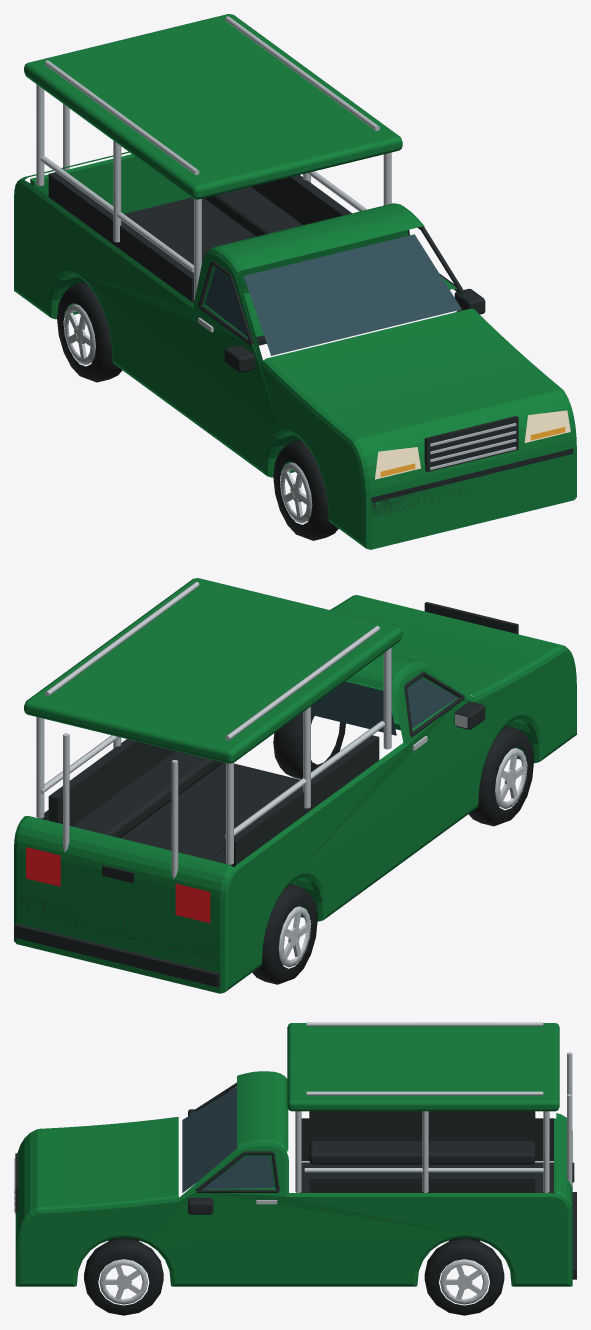
Rendered from veh.songthaew@central.gltf.
3 views of the same model, one above another, from view 1: azimuth 30°, elevation 25°; view 2: azimuth 150°, elevation 25°; view 3: azimuth 270°, elevation 25° (orthographic). The views are drawn at different scales.
Visible parts, largest first — view 1: veh.songthaew/vehicle:car_paint:15803d, veh.songthaew/vehicle:plastic_trim_black:242b2c, veh.songthaew/vehicle:glass_vehicle:334f58, veh.songthaew/vehicle:chrome:bfc8cc, veh.songthaew/vehicle:rubber_tire:202527, veh.songthaew/vehicle:lamp_lens:fff3d8; view 2: veh.songthaew/vehicle:car_paint:15803d, veh.songthaew/vehicle:plastic_trim_black:242b2c, veh.songthaew/vehicle:chrome:bfc8cc, veh.songthaew/vehicle:rubber_tire:202527, veh.songthaew/vehicle:glass_vehicle:334f58, veh.songthaew/vehicle:tail_light_red:de252b; view 3: veh.songthaew/vehicle:car_paint:15803d, veh.songthaew/vehicle:plastic_trim_black:242b2c, veh.songthaew/vehicle:chrome:bfc8cc, veh.songthaew/vehicle:rubber_tire:202527, veh.songthaew/vehicle:glass_vehicle:334f58.
Part boxes in pixels (bbox=[...]): veh.songthaew/vehicle:car_paint:15803d: bbox=[14, 14, 576, 549]; veh.songthaew/vehicle:plastic_trim_black:242b2c: bbox=[48, 172, 573, 517]; veh.songthaew/vehicle:glass_vehicle:334f58: bbox=[204, 234, 461, 355]; veh.songthaew/vehicle:chrome:bfc8cc: bbox=[36, 16, 516, 523]; veh.songthaew/vehicle:rubber_tire:202527: bbox=[57, 281, 338, 540]; veh.songthaew/vehicle:lamp_lens:fff3d8: bbox=[375, 410, 570, 479]; veh.songthaew/vehicle:car_paint:15803d: bbox=[14, 578, 576, 993]; veh.songthaew/vehicle:plastic_trim_black:242b2c: bbox=[14, 602, 518, 987]; veh.songthaew/vehicle:chrome:bfc8cc: bbox=[36, 582, 527, 967]; veh.songthaew/vehicle:rubber_tire:202527: bbox=[252, 712, 533, 984]; veh.songthaew/vehicle:glass_vehicle:334f58: bbox=[302, 678, 457, 735]; veh.songthaew/vehicle:tail_light_red:de252b: bbox=[26, 847, 210, 923]; veh.songthaew/vehicle:car_paint:15803d: bbox=[15, 1023, 572, 1286]; veh.songthaew/vehicle:plastic_trim_black:242b2c: bbox=[15, 1082, 576, 1279]; veh.songthaew/vehicle:chrome:bfc8cc: bbox=[14, 1022, 572, 1304]; veh.songthaew/vehicle:rubber_tire:202527: bbox=[84, 1238, 504, 1315]; veh.songthaew/vehicle:glass_vehicle:334f58: bbox=[182, 1087, 274, 1192].
Bounding box in the file's own units: 2.14 × 2.31 × 5.36.
